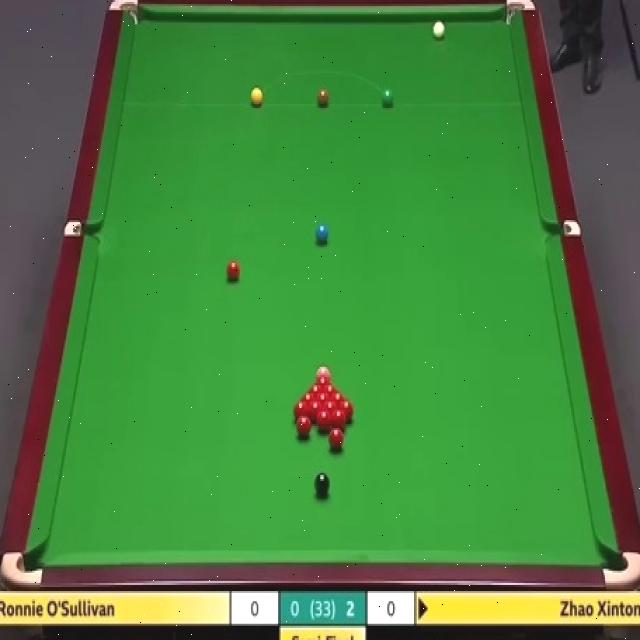black-ball: (314, 473, 331, 499)
blue-ball: (314, 223, 330, 246)
brown-ball: (317, 88, 329, 108)
green-ball: (380, 87, 394, 108)
pink-ball: (316, 364, 332, 379)
red-ball: (225, 259, 243, 287), (328, 430, 346, 452), (330, 410, 347, 431), (296, 415, 311, 437), (316, 410, 331, 431), (294, 400, 310, 417), (338, 402, 355, 418), (324, 402, 338, 421), (309, 402, 322, 419), (300, 392, 316, 402), (315, 393, 332, 402), (323, 384, 339, 393), (315, 376, 331, 384), (308, 384, 323, 392), (332, 394, 346, 402)
white-ball: (432, 19, 446, 42)
yellow-ball: (251, 88, 263, 108)
